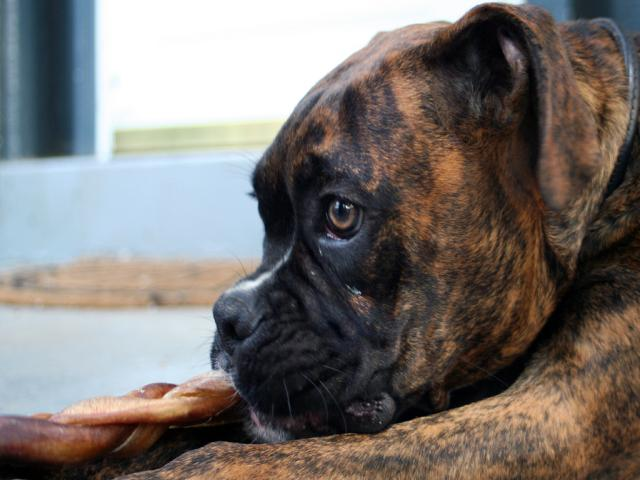Dog: (1, 0, 639, 480)
